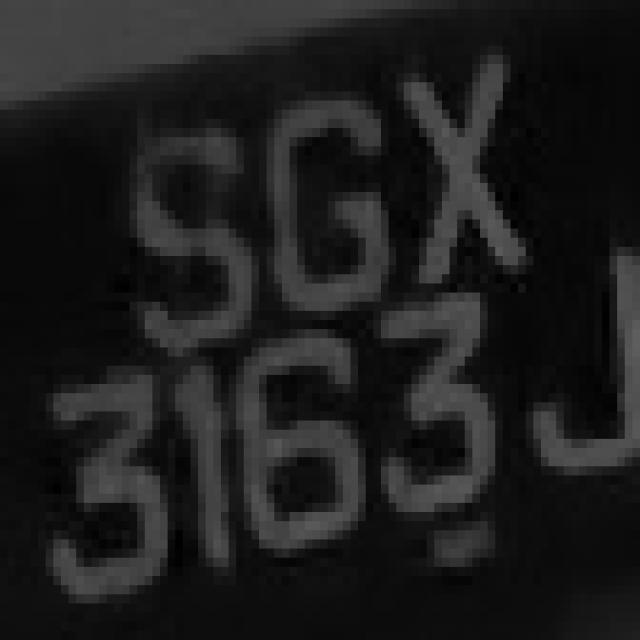1: (168, 357, 259, 585)
3: (366, 274, 518, 558), (31, 366, 176, 622)
6: (221, 311, 373, 585)
G: (221, 73, 404, 329)
J: (526, 247, 632, 484)
S: (91, 101, 252, 384)
X: (366, 55, 541, 283)
